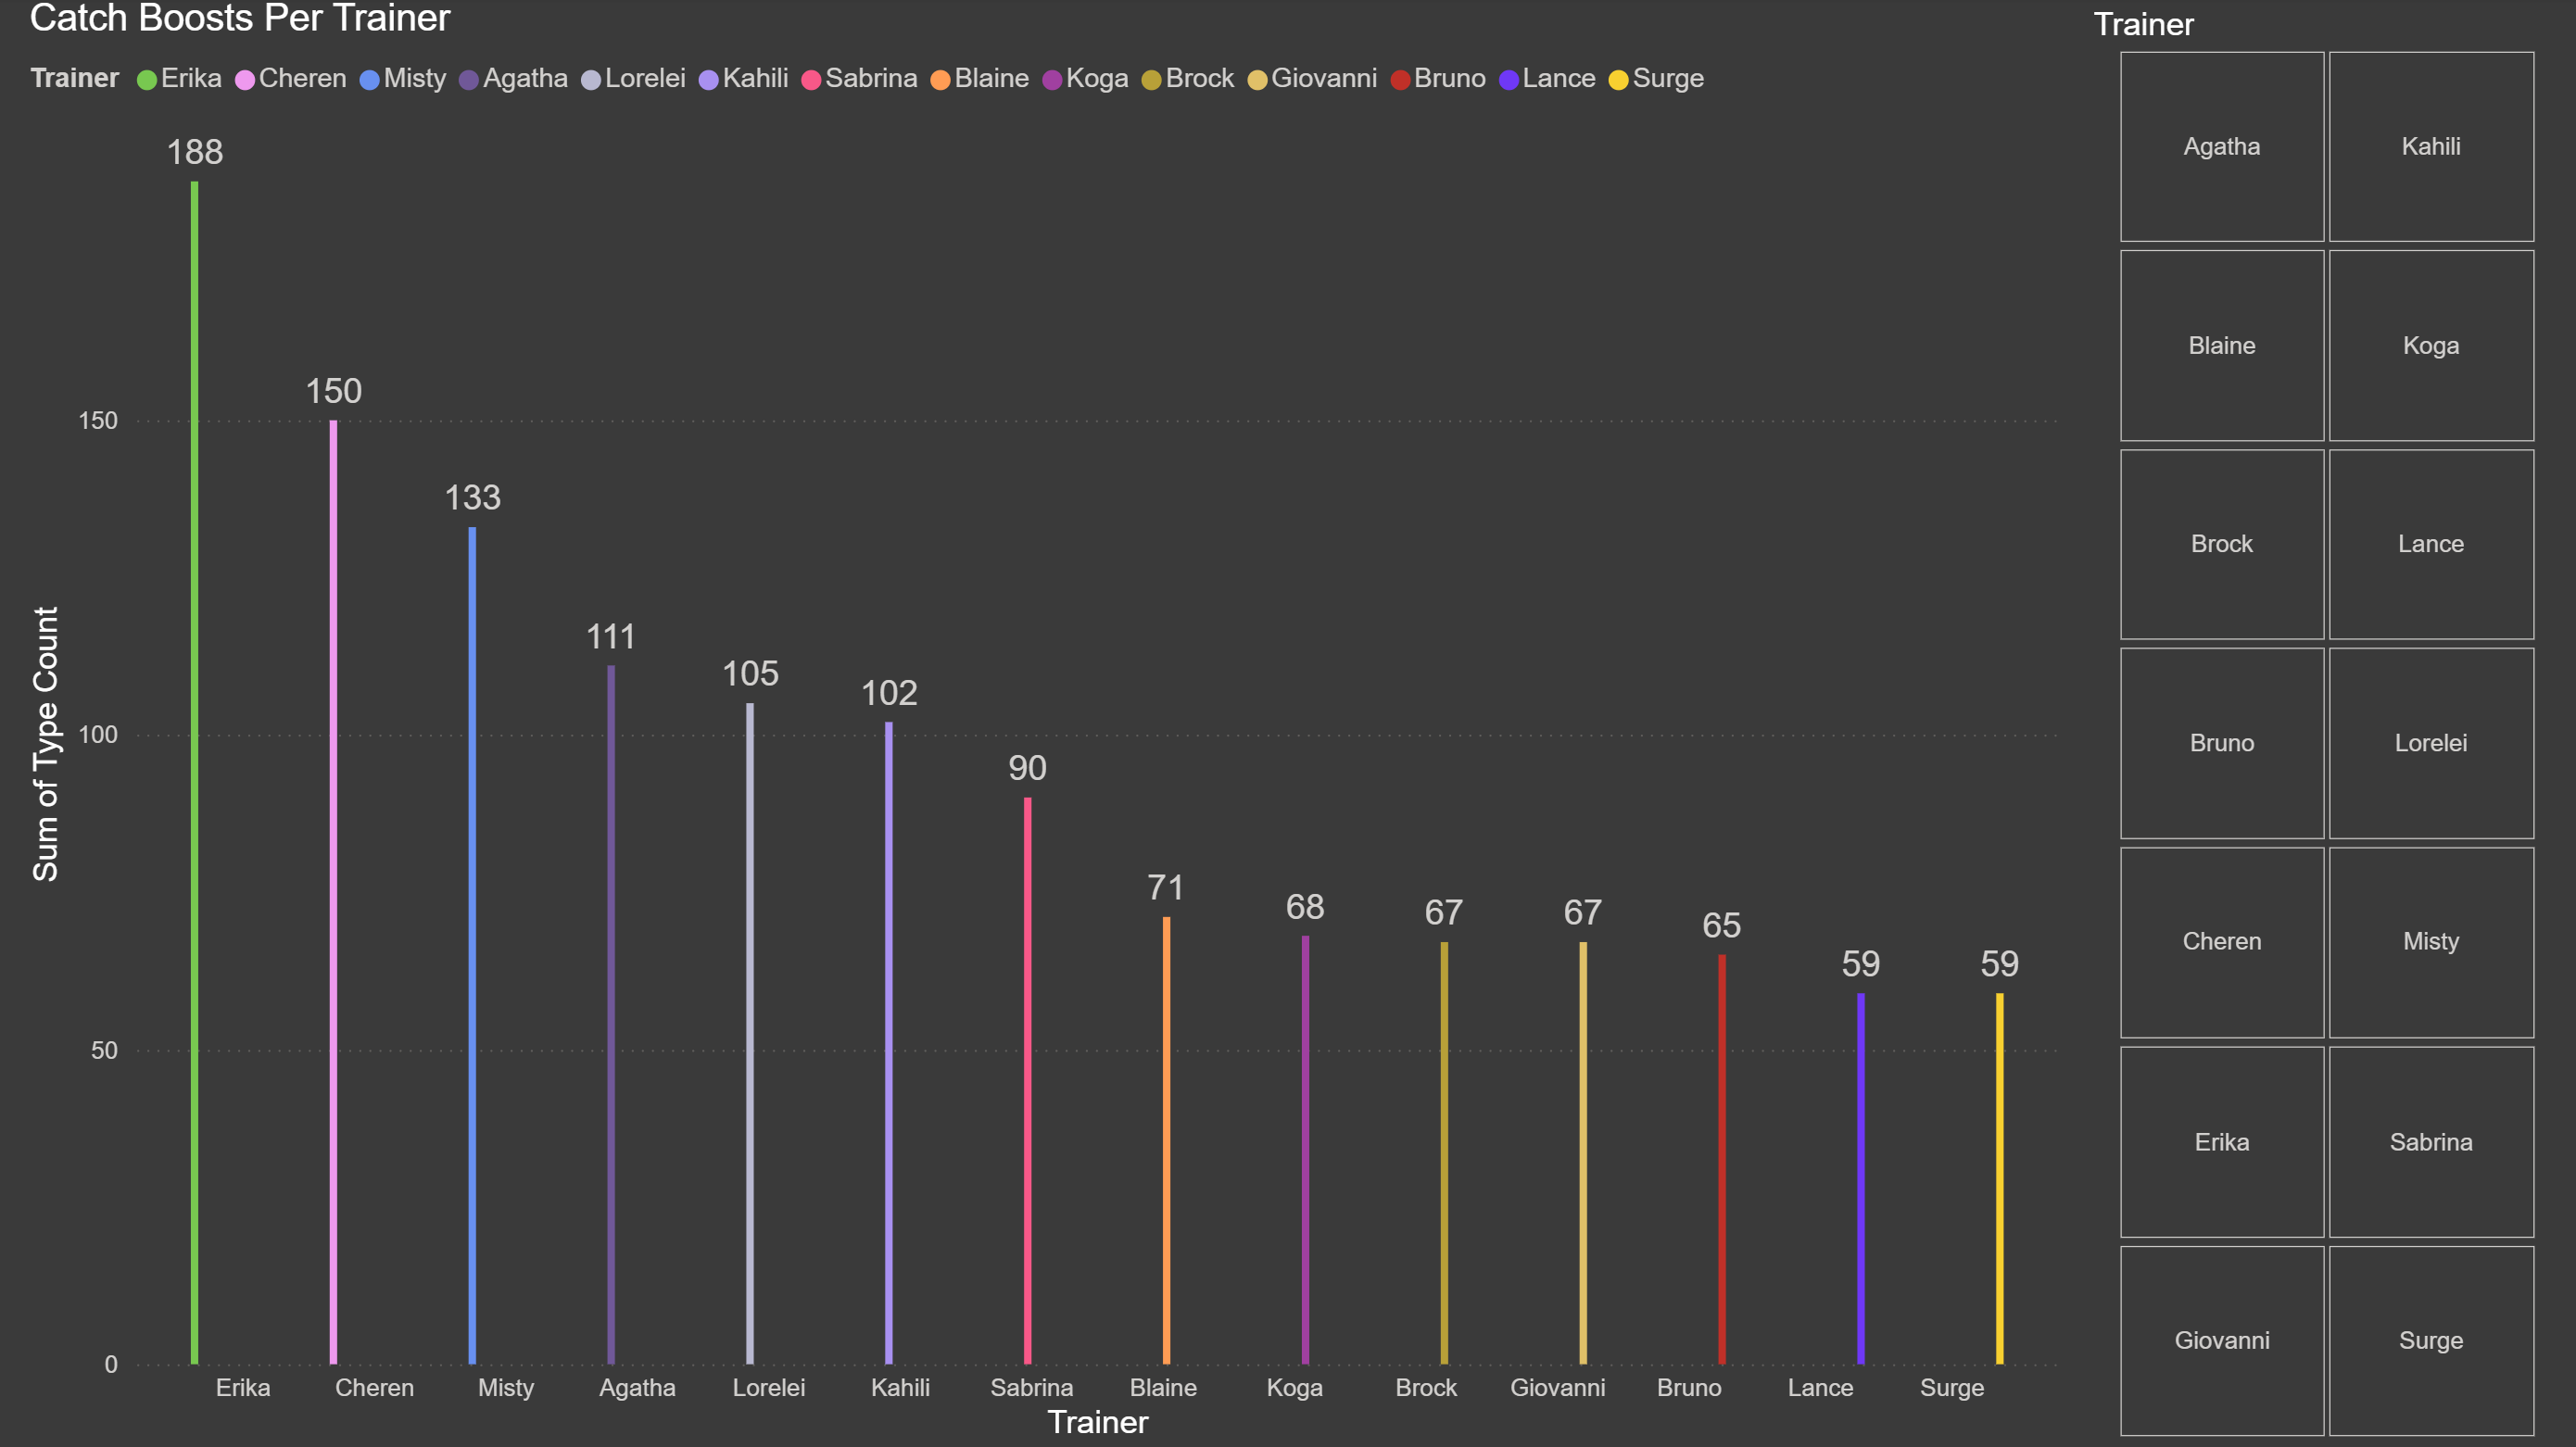

This screenshot's page, from the dashboard's own definition file:
{"tool":"powerbi","page":{"name":"Trainer Cards","canvas":[1280,720],"ordinal":7},"visuals":[{"type":"clusteredColumnChart","fields":{"Y":["Sum(TypeCountTable.Type Count)"],"Series":["Trainer Cards.Trainer"],"Category":["Trainer Cards.Trainer"]},"box":[9.8,0,1014.7,720.2],"z":0},{"type":"slicer","fields":{"Values":["Trainer Cards.Trainer"]},"box":[1024.5,0,255.2,720.2],"z":1000}]}

Visuals, with their boxes in screenshot pixels (x1, y1, x2, y2), scaled from the page's 1280x720 canvas onto the 2576x1447 screenshot:
clusteredColumnChart - Sum(TypeCountTable.Type Count) x Trainer Cards.Trainer: 19/0/2062/1446
slicer - Trainer Cards.Trainer: 2062/0/2575/1446
